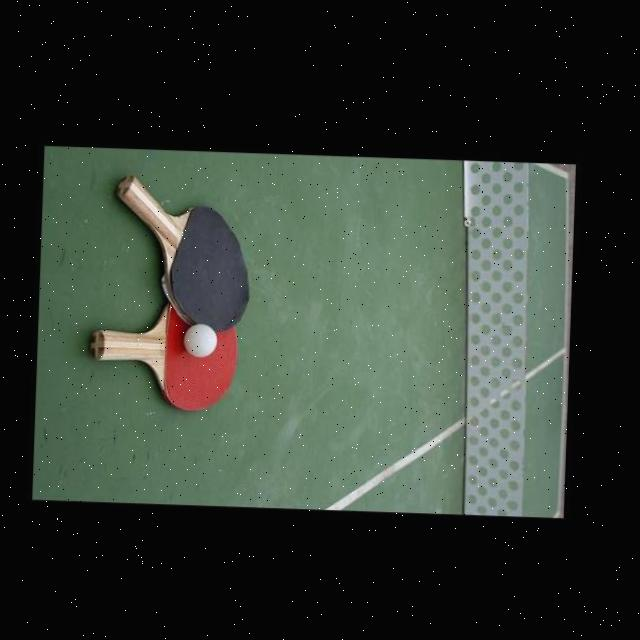ping-pong-ball: (178, 321, 218, 360)
